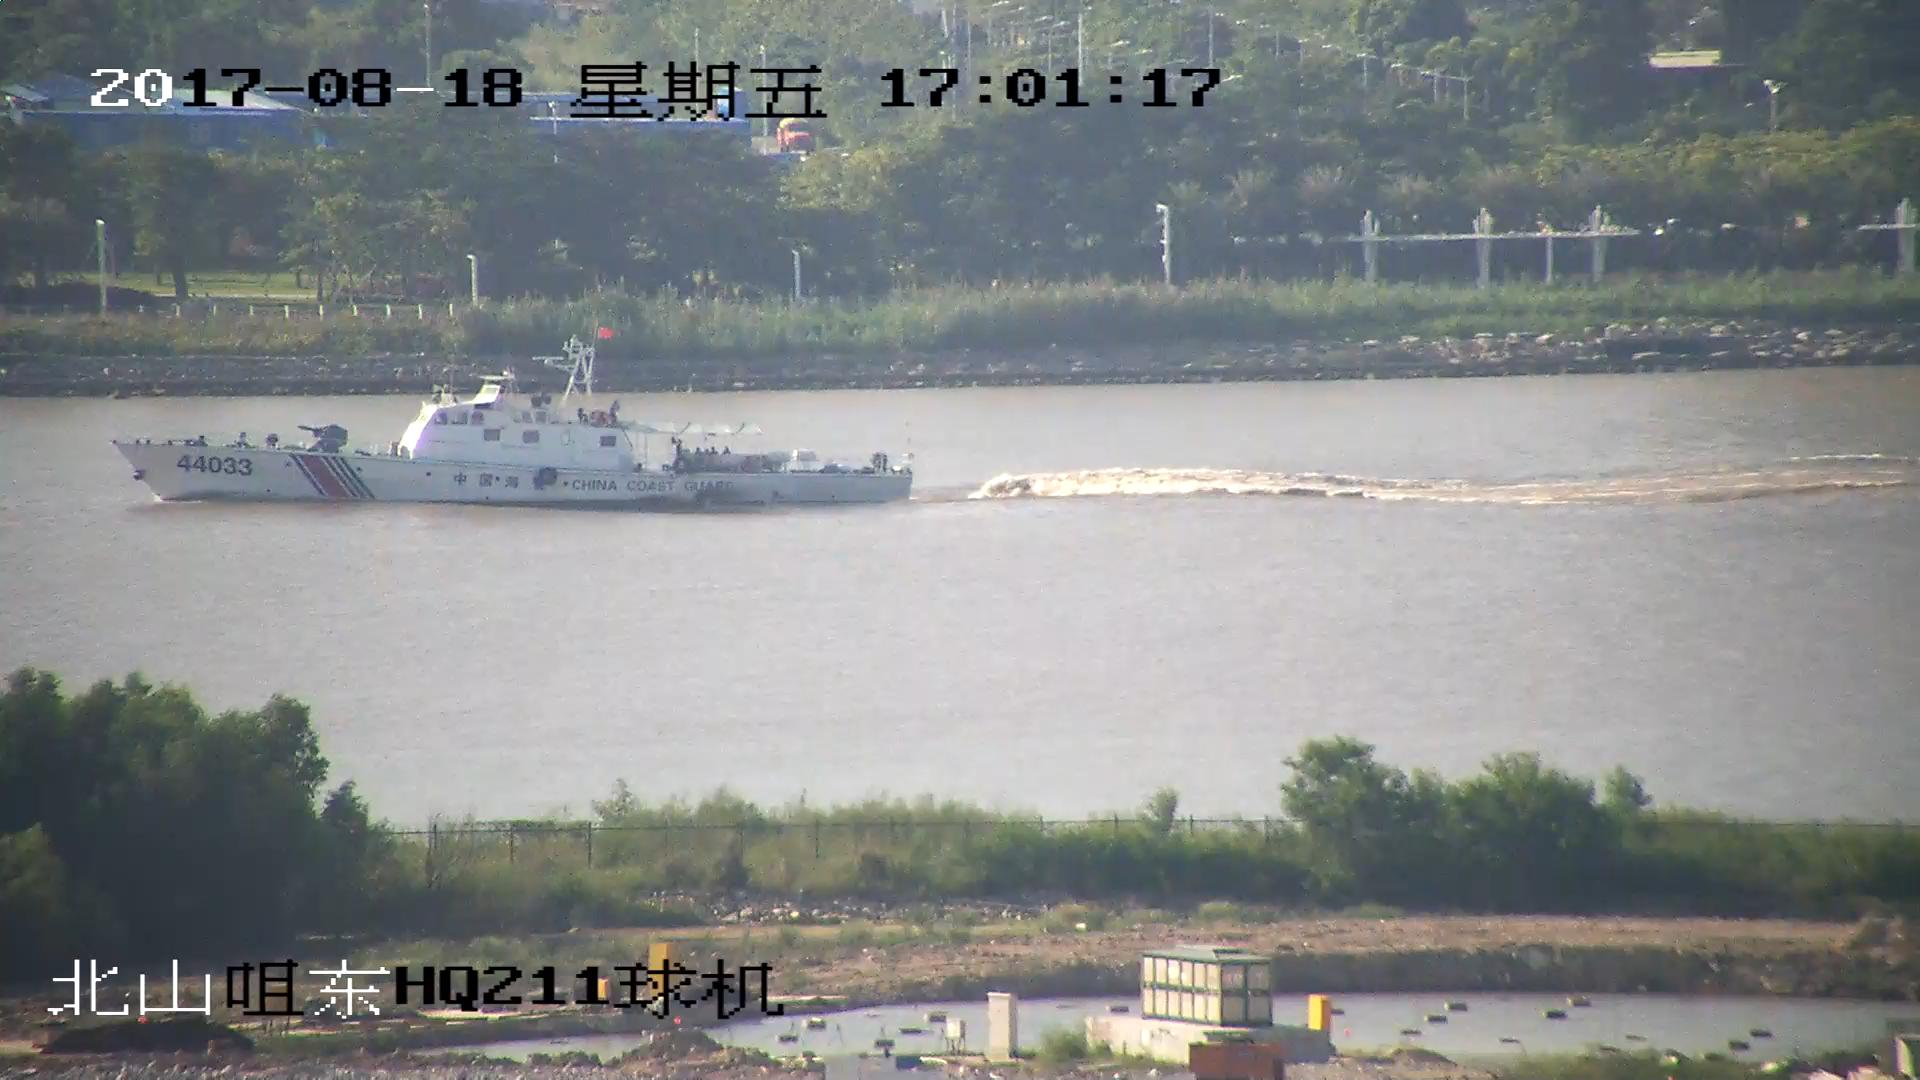passenger ship: (120, 332, 916, 510)
